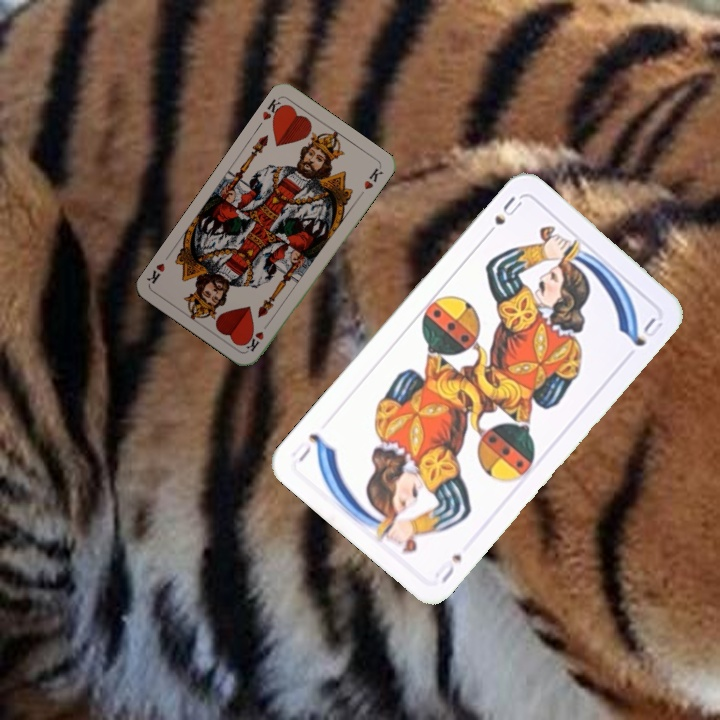HK: (242, 318, 272, 354), (258, 95, 287, 125)
SU: (479, 192, 525, 242), (430, 549, 464, 586)
